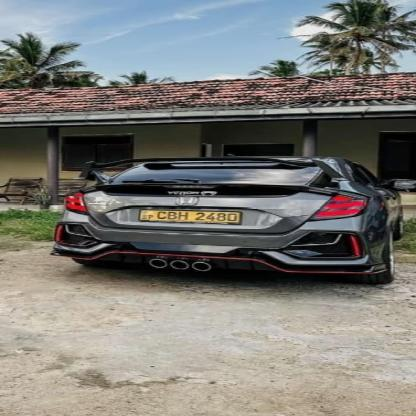car back: (37, 151, 415, 291)
number plate: (128, 209, 247, 226)
